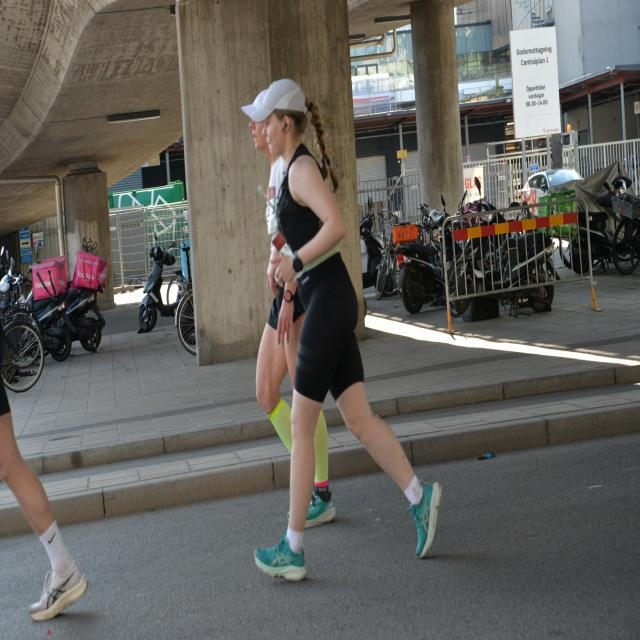runner-detect: (242, 74, 442, 602)
